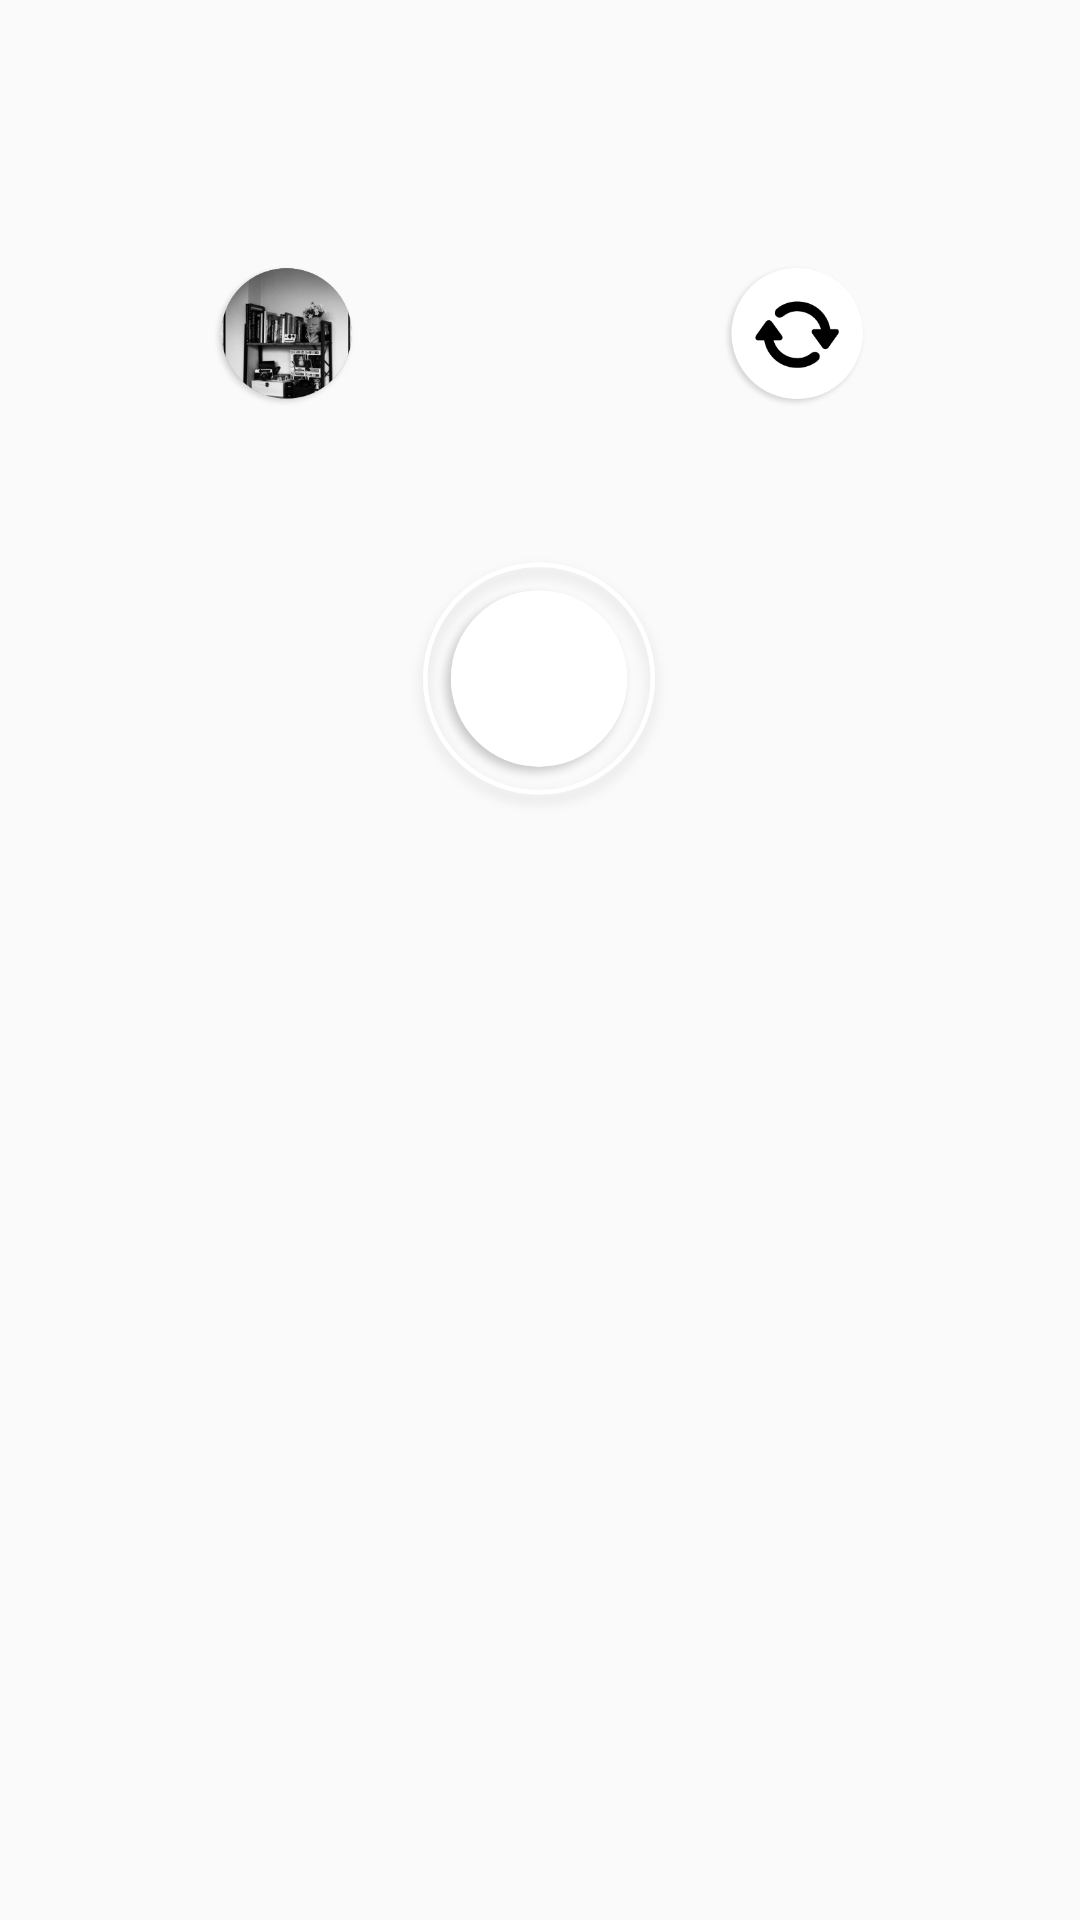

Icons on this 1080px x 1920px Android screen, each with its box as (x1, y1, x2, y2):
gallery: (220, 268, 352, 400)
rotate: (730, 301, 839, 401)
